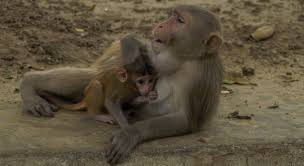monkey: (97, 6, 256, 130), (9, 44, 163, 135)
